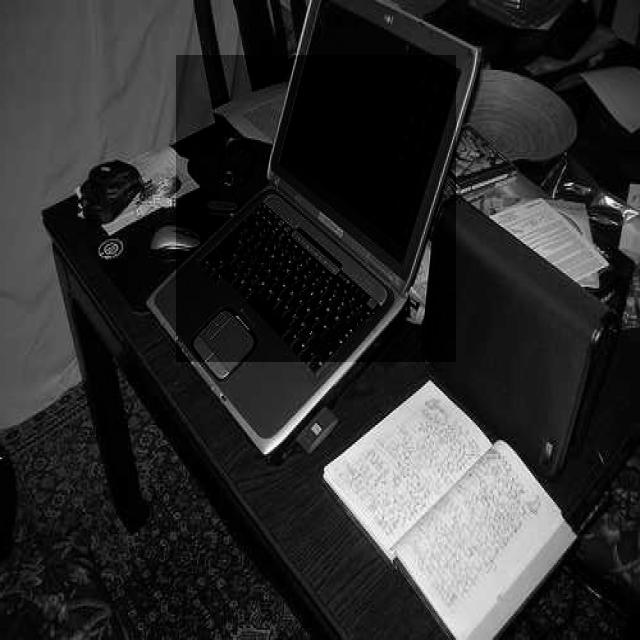-keyboard-: (176, 55, 456, 362)
